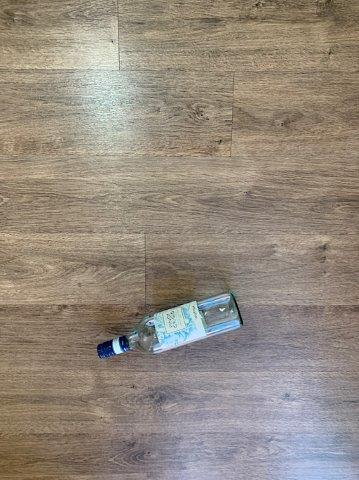botolkaca: (97, 294, 243, 358)
